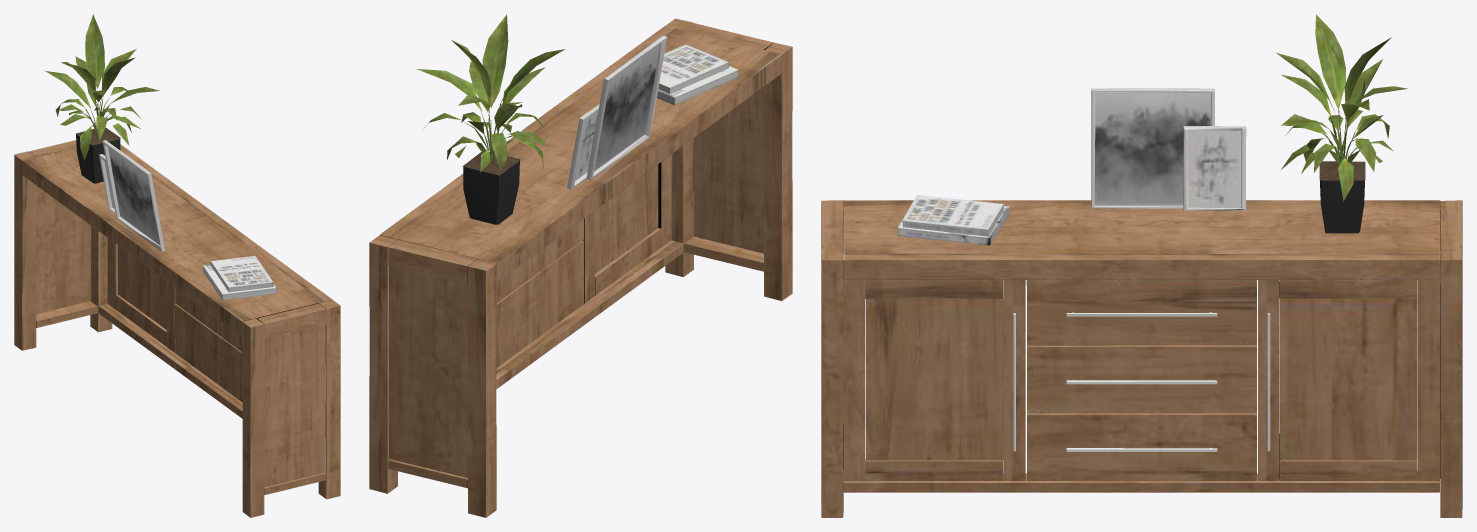
Rendered from Cupboard0007.obj.
3 views of the same model, side by side, from view 1: azimuth 30°, elevation 25°; view 2: azimuth 150°, elevation 25°; view 3: azimuth 270°, elevation 25° (orthographic). The views are drawn at different scales.
Bounding box in the file's own units: 0.46 × 1.47 × 1.86.
Materials: 1 (1 with a texture image).
